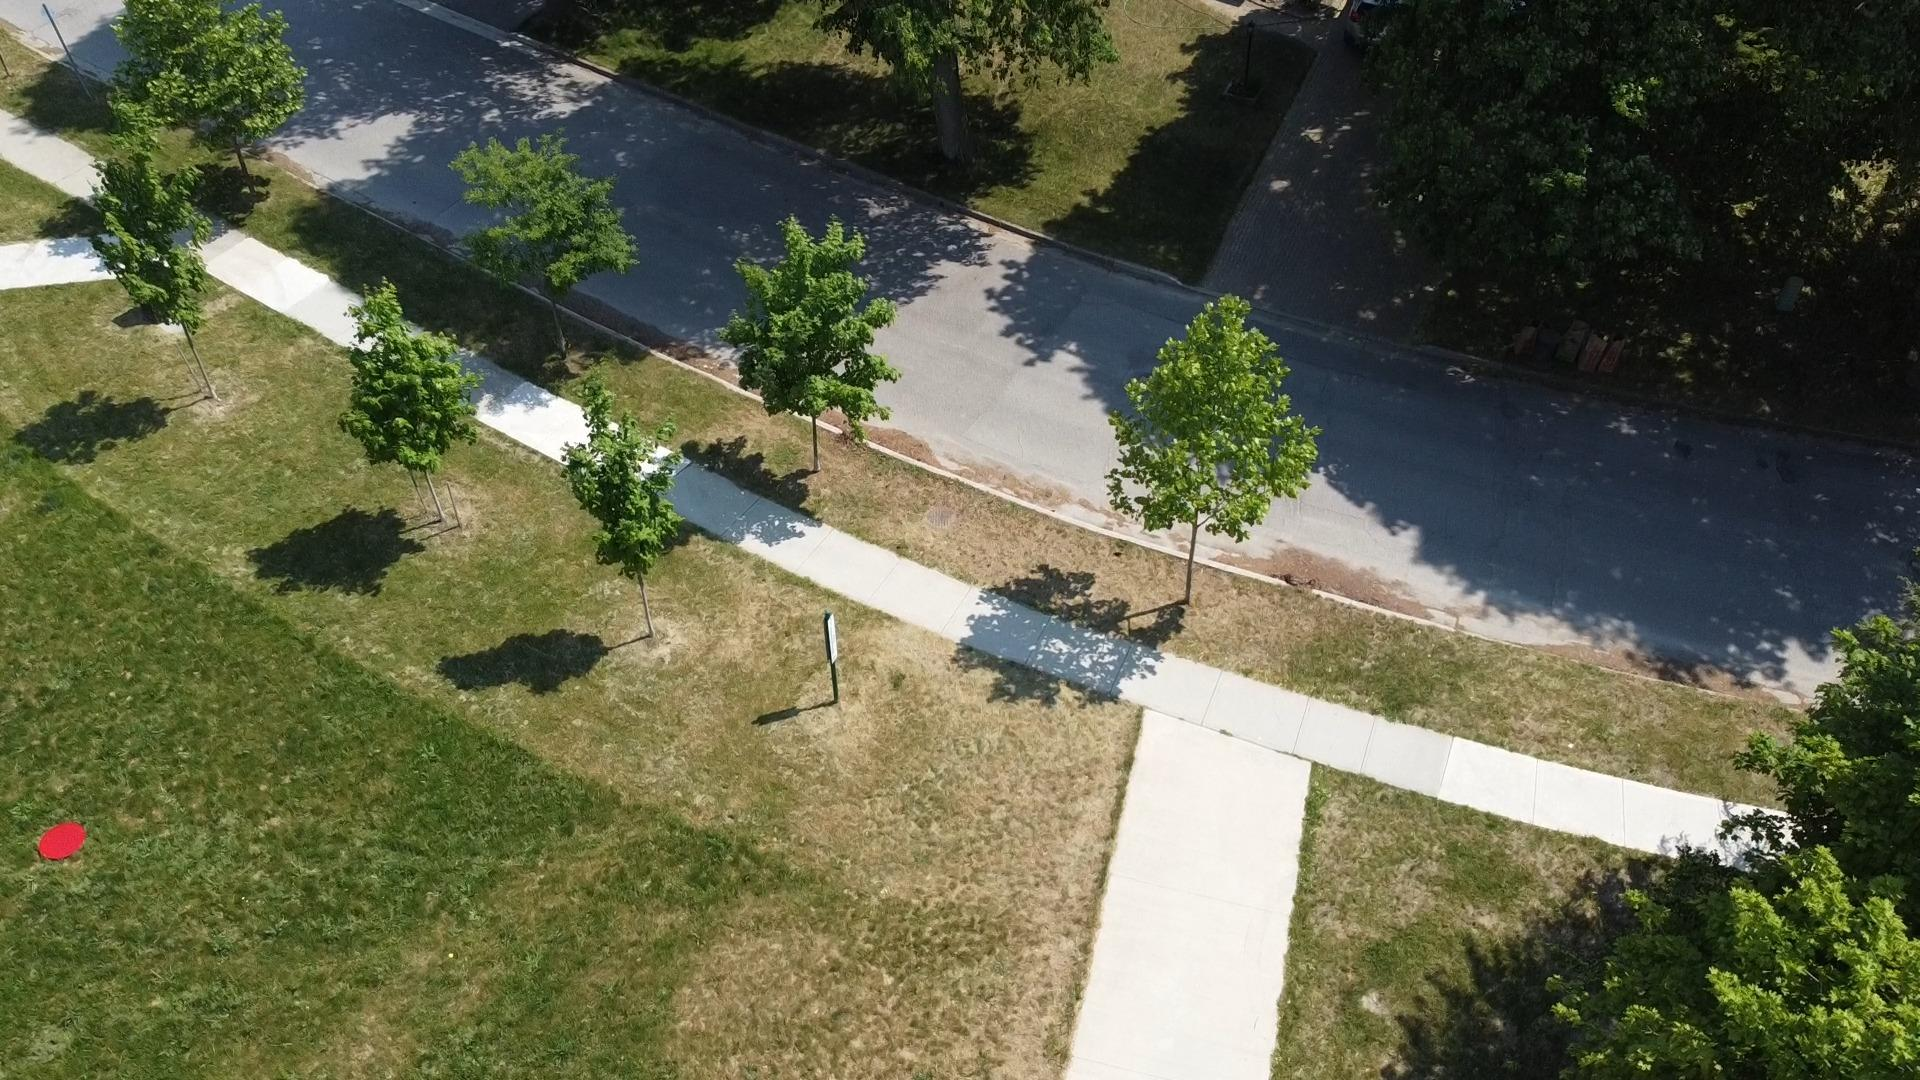Red: (37, 822, 87, 861)
